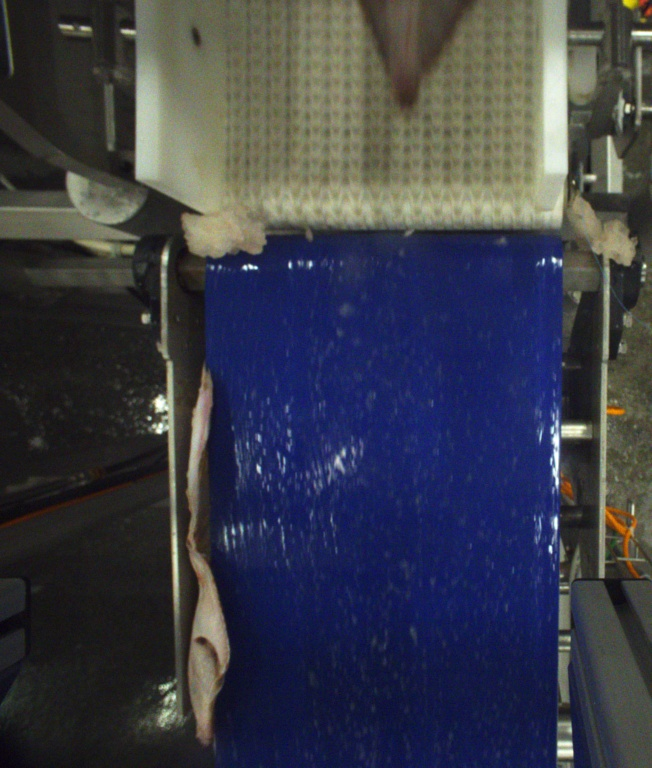SOL: (353, 0, 473, 121)
